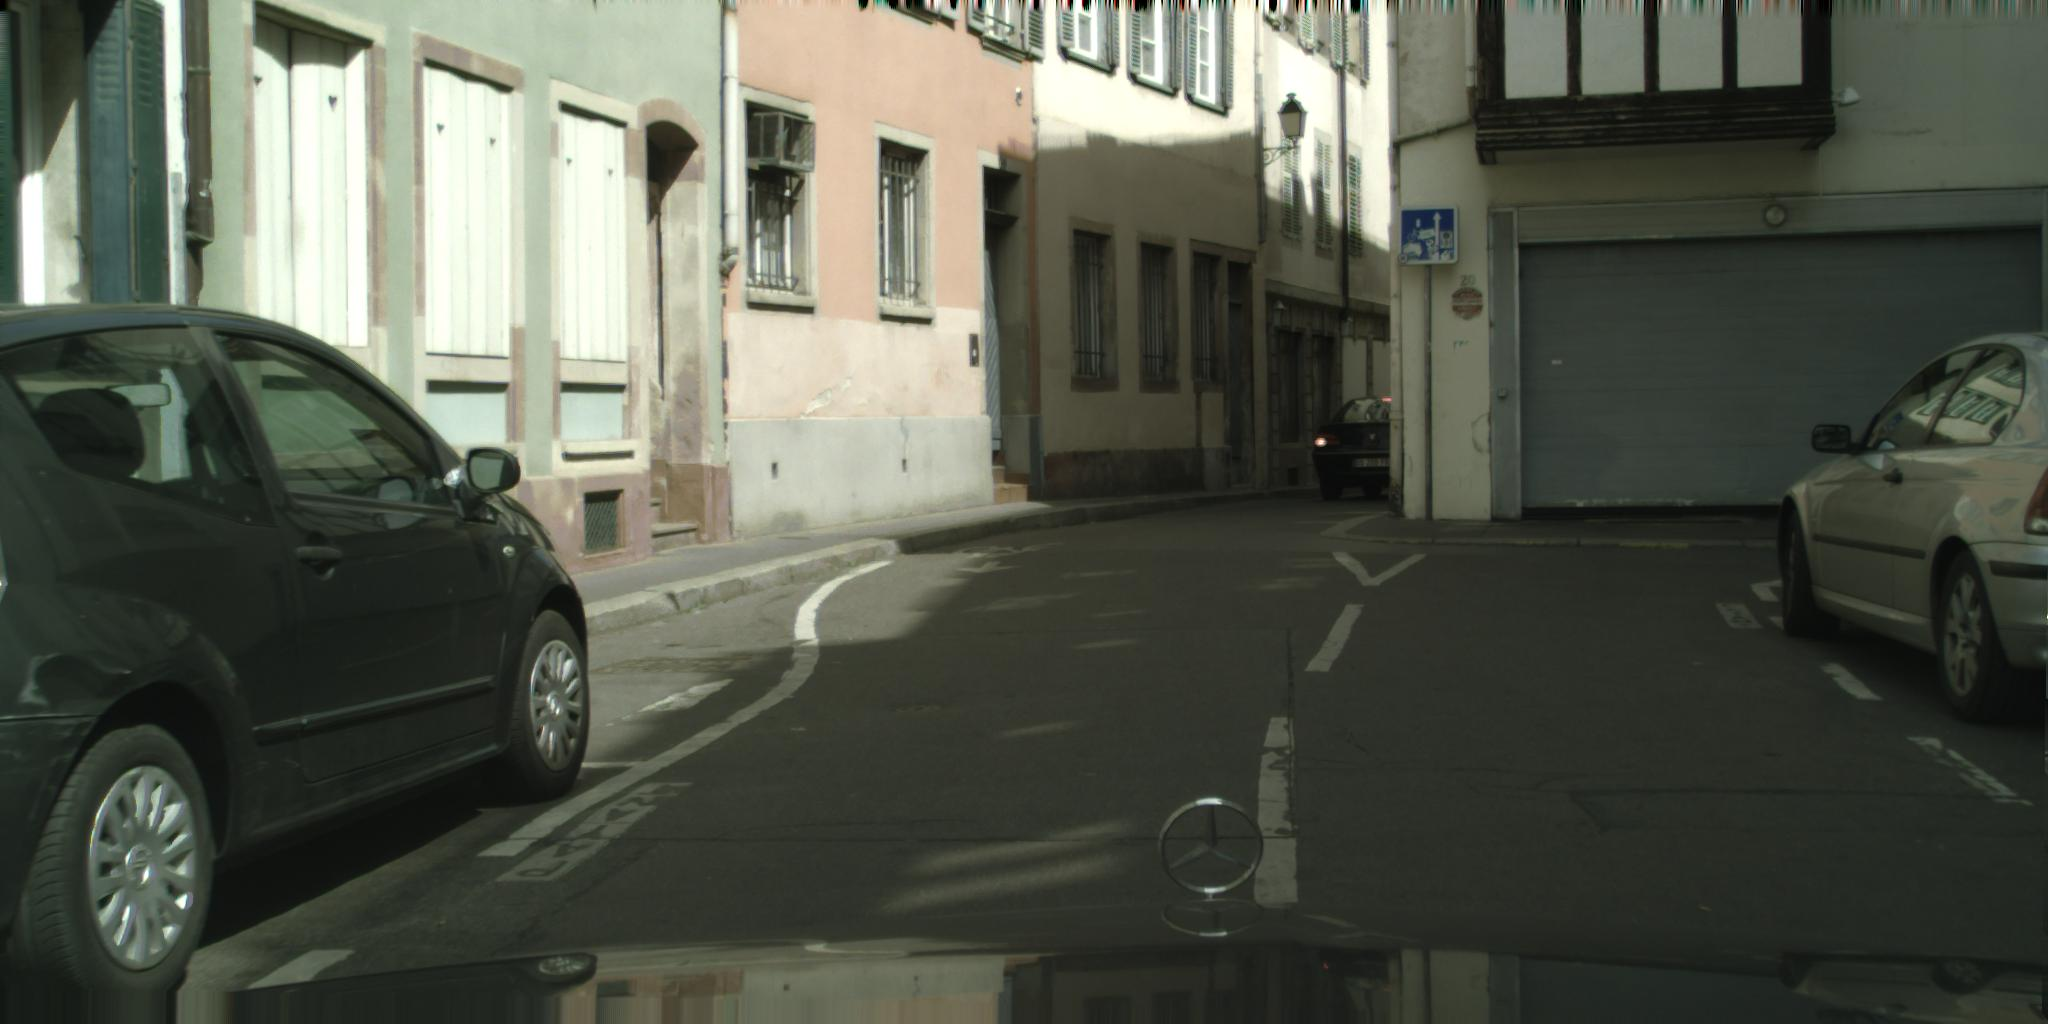car: (1, 303, 590, 1024), (1779, 330, 2048, 724), (1313, 394, 1415, 502)
